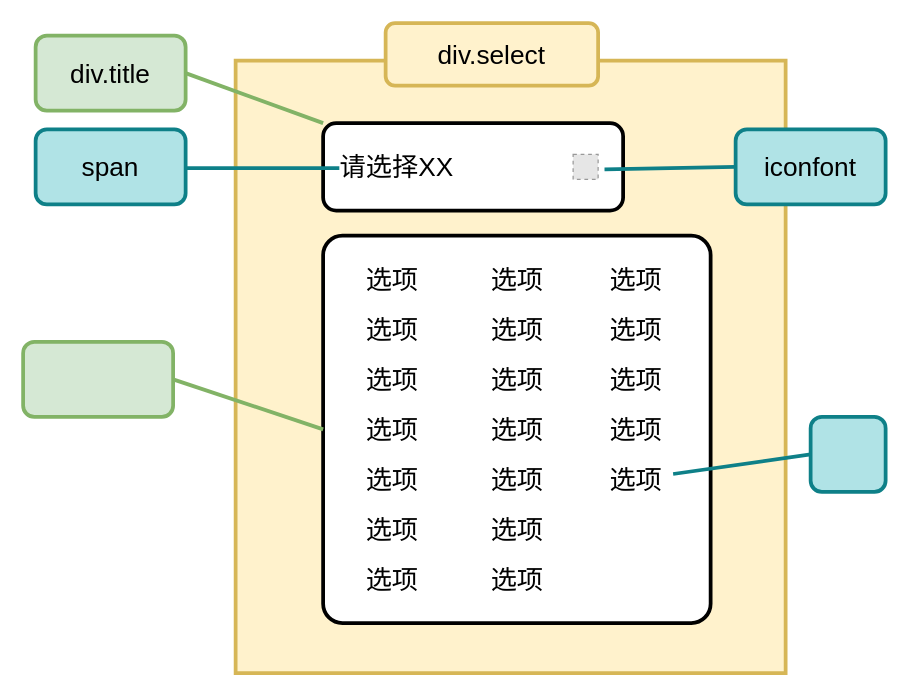
Image size: 909x696. Some labels were removed from this diagram. Grey dashed boxes stand in for pictures. Each missing label, with the centre of its shape:
li: point (847, 453)
ul.options: point (97, 378)
